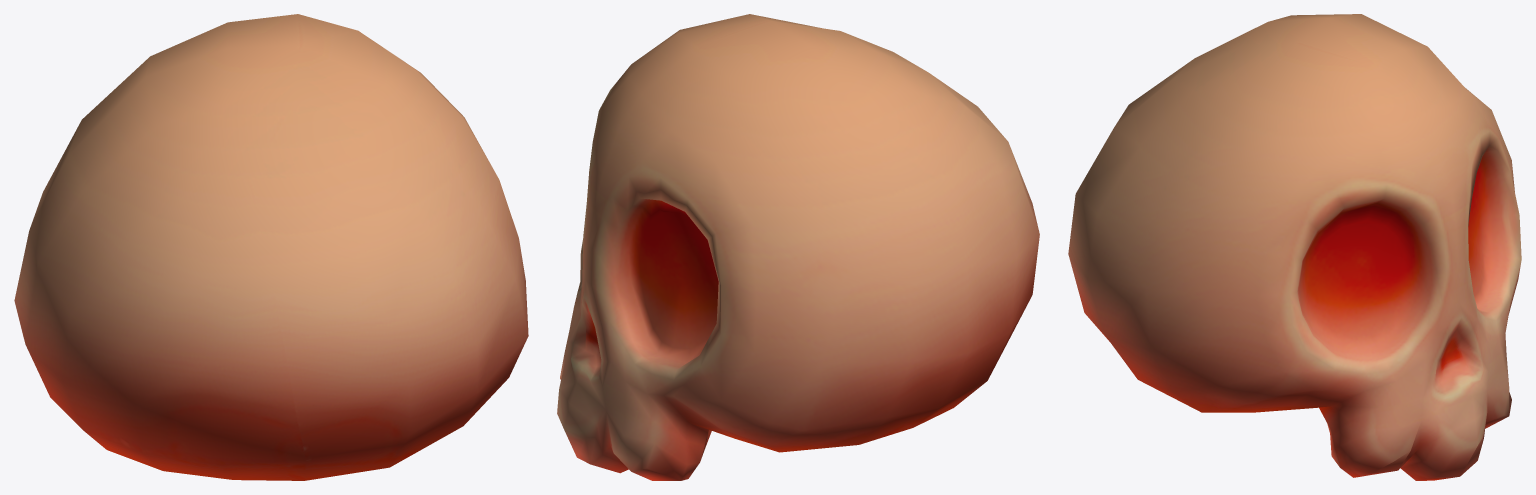
The model's file is skull.fbx.
3 renders of one model, left to right at view 1: azimuth 30°, elevation 25°; view 2: azimuth 150°, elevation 25°; view 3: azimuth 270°, elevation 25°, orthographic. The views are drawn at different scales.
Parts seen in each view (by area): view 1: Skull_LP; view 2: Skull_LP; view 3: Skull_LP.
Boxes of the visible parts, bbox=[...] form: Skull_LP: bbox=[14, 14, 528, 480]; Skull_LP: bbox=[557, 14, 1039, 480]; Skull_LP: bbox=[1068, 14, 1521, 480].
Bounding box in the file's own units: 59.49 × 57.02 × 58.9.
